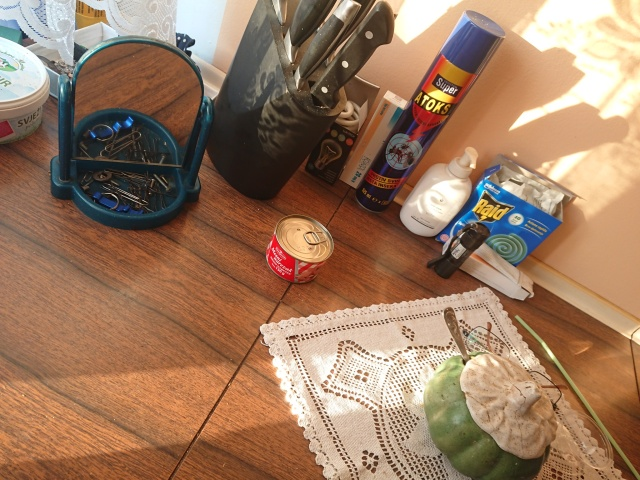Podravka Luncheon Meat 150g: (262, 212, 337, 287)
